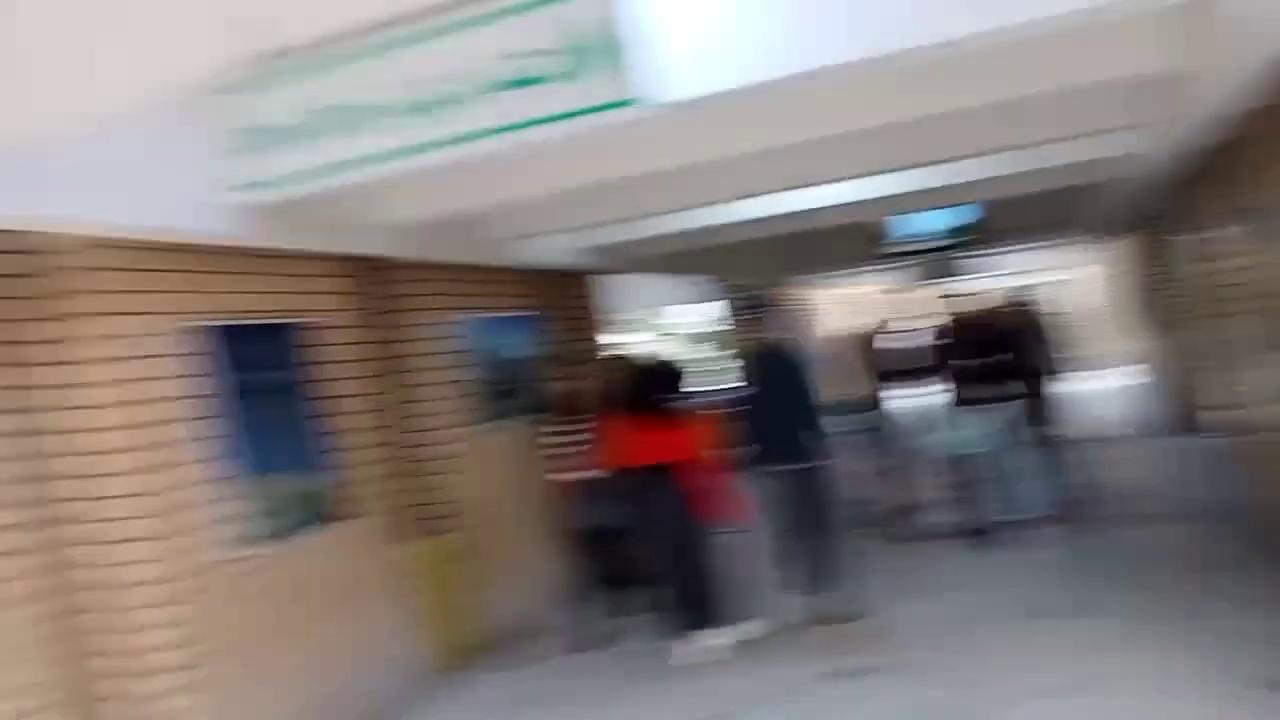person: (735, 301, 864, 626), (581, 359, 716, 632), (932, 287, 1063, 541)
